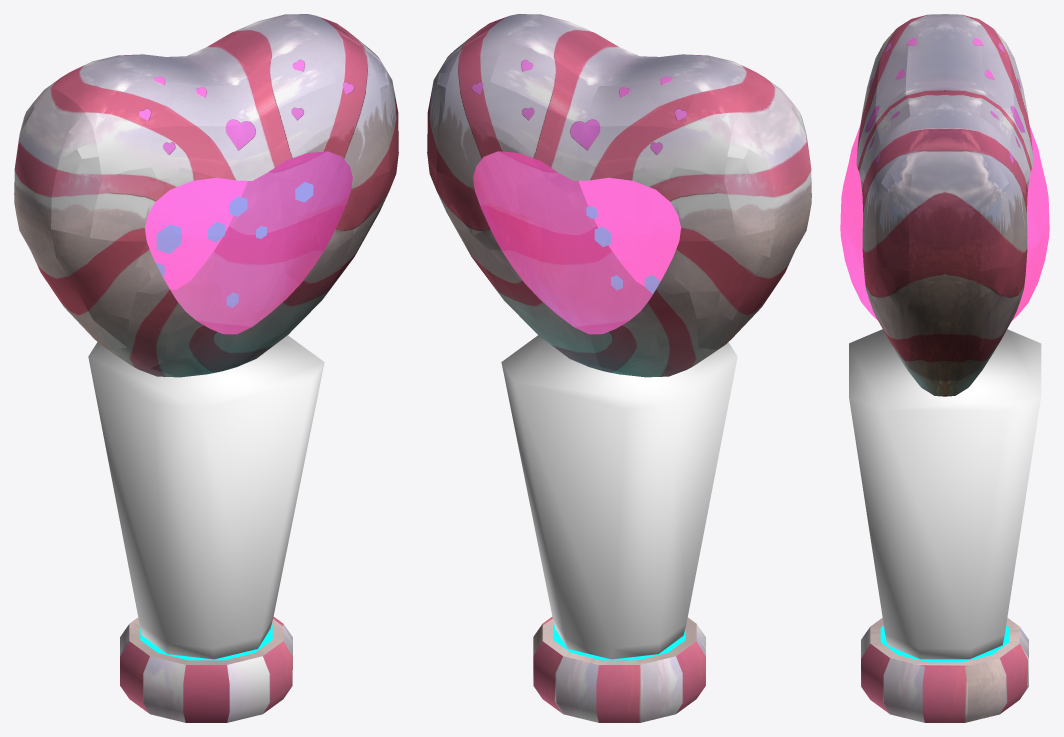
File: Candy Health Pick Up Iwb.fbx
3 renders of one model, left to right at view 1: azimuth 30°, elevation 25°; view 2: azimuth 150°, elevation 25°; view 3: azimuth 270°, elevation 25°, orthographic. The views are drawn at different scales.
Visible parts, largest first — view 1: 169, 122, 181, 76, 146, 93; view 2: 169, 122, 181, 76, 146, 93; view 3: 169, 122, 76, 181, 93.
Part boxes in pixels (left/top/right/bottom): 169: left=14, top=14, right=398, bottom=377; 122: left=88, top=335, right=324, bottom=659; 181: left=145, top=151, right=352, bottom=334; 76: left=120, top=617, right=292, bottom=722; 146: left=156, top=182, right=312, bottom=307; 93: left=140, top=624, right=272, bottom=660; 169: left=427, top=14, right=811, bottom=377; 122: left=501, top=335, right=737, bottom=659; 181: left=473, top=151, right=680, bottom=334; 76: left=533, top=617, right=705, bottom=722; 146: left=586, top=206, right=659, bottom=293; 93: left=553, top=624, right=685, bottom=660; 169: left=856, top=14, right=1033, bottom=396; 122: left=849, top=329, right=1041, bottom=659; 76: left=861, top=618, right=1028, bottom=722; 181: left=840, top=124, right=1049, bottom=321; 93: left=880, top=625, right=1009, bottom=662.
Bounding box in the file's own units: 38.63 × 67.01 × 20.28.
Materials: 5 (2 with a texture image).
